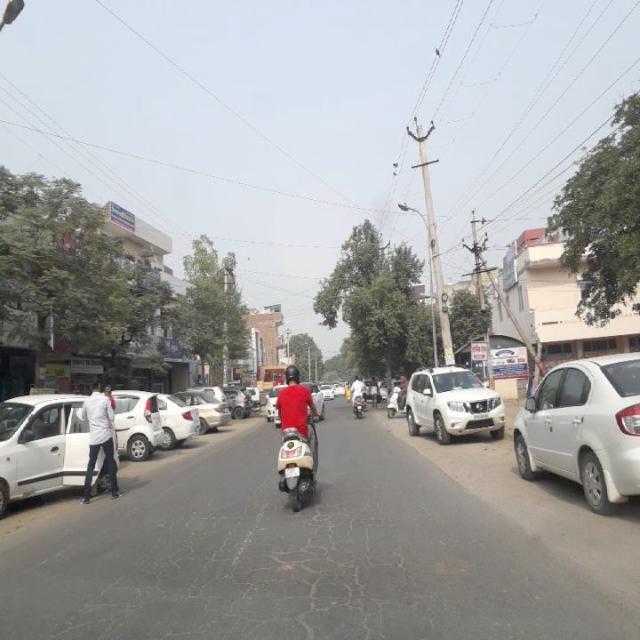crack: (98, 503, 420, 638)
